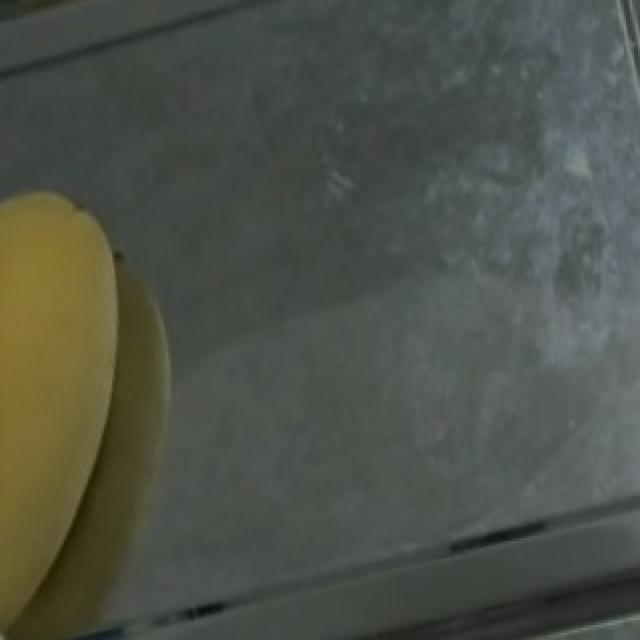fruit: (0, 151, 234, 563)
